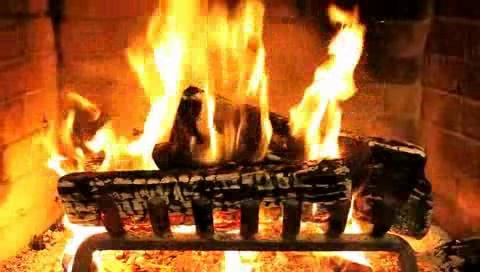fire: (17, 1, 480, 181)
